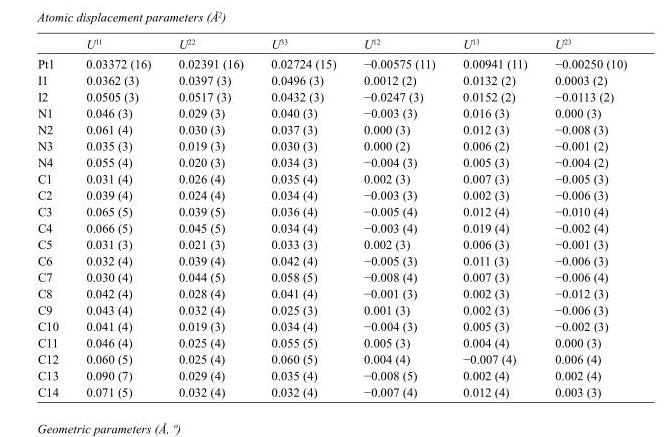table: (36, 37, 626, 398)
table column: (349, 37, 448, 398), (71, 37, 164, 398), (256, 37, 349, 398), (164, 37, 256, 398), (448, 37, 540, 398), (540, 37, 626, 398), (36, 37, 71, 398)
table column header: (36, 37, 626, 53)
table row: (36, 53, 626, 71), (36, 71, 626, 88), (36, 104, 626, 121), (36, 153, 626, 170), (36, 186, 626, 203), (36, 235, 626, 252), (36, 268, 626, 285), (36, 317, 626, 334), (36, 350, 626, 367), (36, 37, 626, 53), (36, 88, 626, 104), (36, 121, 626, 137), (36, 137, 626, 153), (36, 170, 626, 186), (36, 203, 626, 219), (36, 219, 626, 235), (36, 252, 626, 268), (36, 285, 626, 301), (36, 301, 626, 317), (36, 334, 626, 350), (36, 367, 626, 383), (36, 383, 626, 398)
